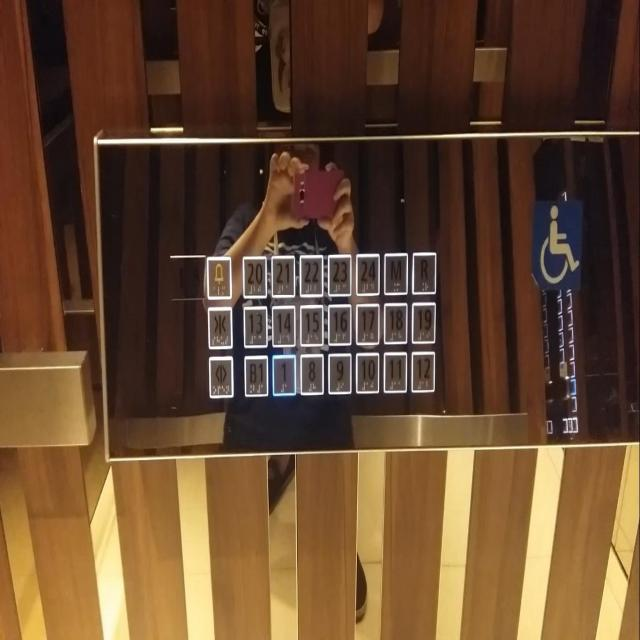1: (271, 352, 297, 397)
10: (355, 350, 380, 395)
11: (382, 350, 408, 394)
12: (410, 350, 436, 393)
13: (242, 304, 268, 349)
14: (270, 304, 296, 348)
15: (299, 302, 324, 348)
16: (327, 302, 352, 348)
17: (354, 302, 380, 346)
18: (382, 300, 408, 346)
19: (411, 300, 436, 345)
20: (242, 253, 268, 300)
21: (270, 253, 296, 299)
22: (298, 253, 324, 299)
23: (326, 251, 352, 298)
24: (354, 252, 380, 298)
8: (299, 352, 324, 396)
9: (327, 351, 352, 396)
B1: (243, 353, 269, 399)
CH: (532, 198, 582, 294)
M: (382, 251, 408, 297)
R: (411, 250, 437, 295)
alarm: (205, 253, 233, 302)
close: (206, 304, 233, 351)
open: (208, 353, 234, 400)
